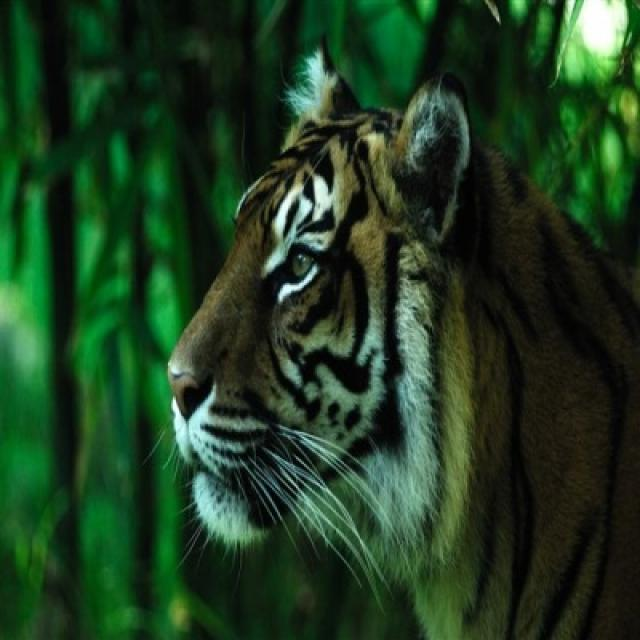Tiger: (165, 34, 638, 638)
